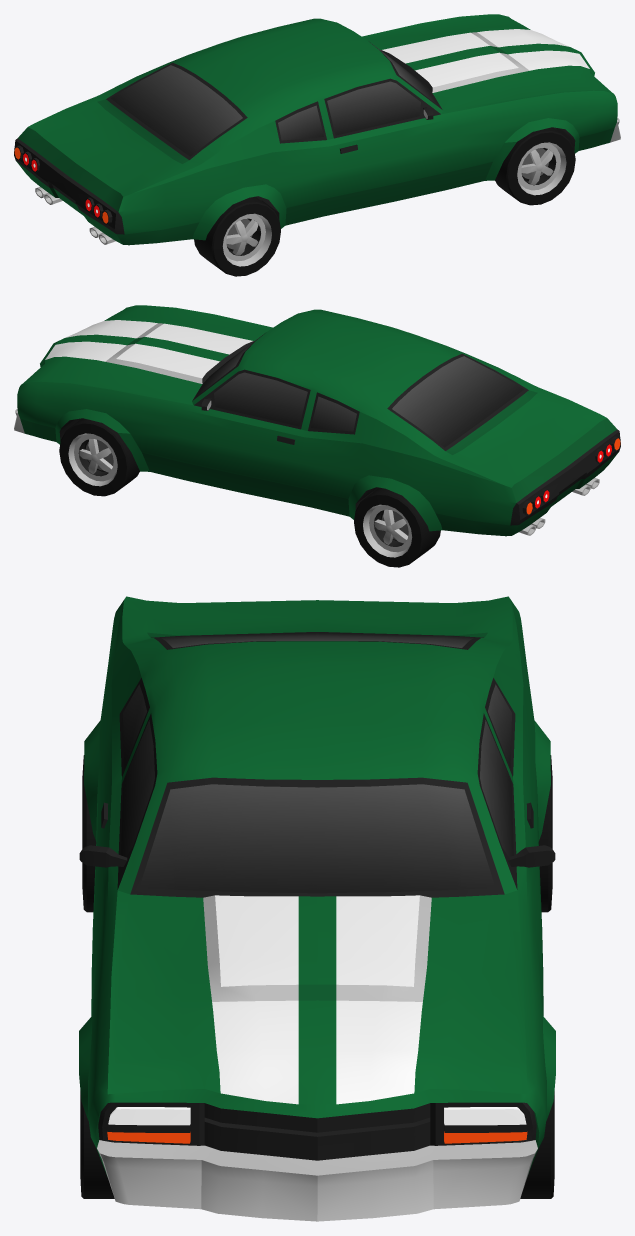
Rendered from Car_116.glb.
3 renders of one model, top to bottom at view 1: azimuth 30°, elevation 25°; view 2: azimuth 150°, elevation 25°; view 3: azimuth 270°, elevation 25°, orthographic. The views are drawn at different scales.
Visible parts, largest first — view 1: Car_116, wheel_3_Car_116_Wheel_2R, wheel_1_Car_116_Wheel_1R; view 2: Car_116, wheel_2_Car_116_Wheel_2L, wheel_0_Car_116_Wheel_1L; view 3: Car_116, wheel_0_Car_116_Wheel_1L, wheel_1_Car_116_Wheel_1R, wheel_2_Car_116_Wheel_2L, wheel_3_Car_116_Wheel_2R.
Part boxes in pixels (left/top/right/bottom): Car_116: left=14, top=14, right=620, bottom=245; wheel_3_Car_116_Wheel_2R: left=194, top=196, right=280, bottom=276; wheel_1_Car_116_Wheel_1R: left=495, top=127, right=575, bottom=205; Car_116: left=14, top=305, right=620, bottom=536; wheel_2_Car_116_Wheel_2L: left=354, top=487, right=440, bottom=567; wheel_0_Car_116_Wheel_1L: left=59, top=418, right=139, bottom=496; Car_116: left=79, top=596, right=555, bottom=1221; wheel_0_Car_116_Wheel_1L: left=520, top=1091, right=554, bottom=1198; wheel_1_Car_116_Wheel_1R: left=80, top=1091, right=114, bottom=1198; wheel_2_Car_116_Wheel_2L: left=538, top=755, right=552, bottom=912; wheel_3_Car_116_Wheel_2R: left=82, top=755, right=96, bottom=912.
Size of the model in its own units: 5.18 by 1.45 by 2.02.
2 materials, 2 textured.
